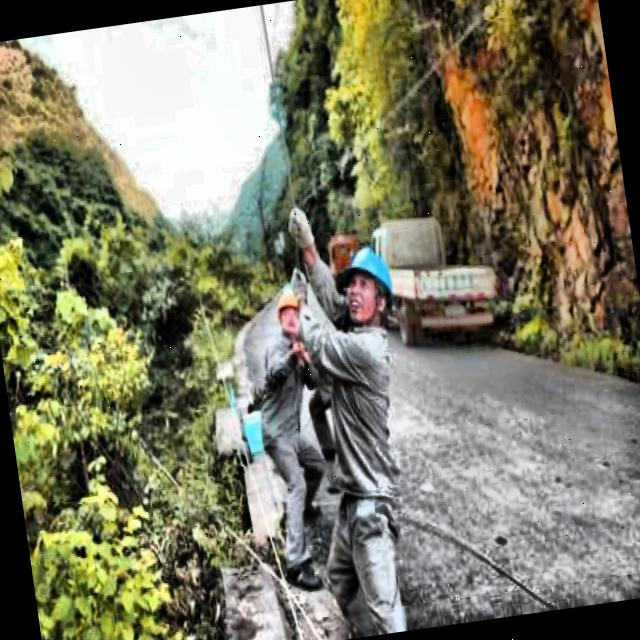helmet: (329, 234, 401, 334), (272, 284, 312, 342)
